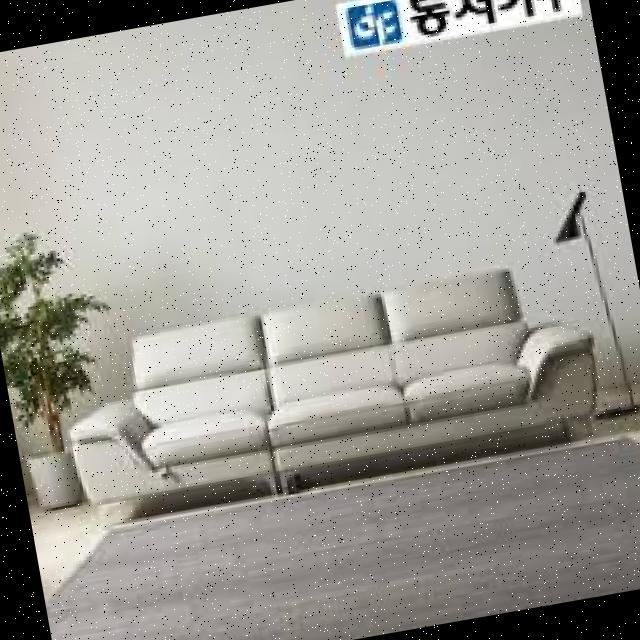Sofa: (39, 233, 636, 570)
